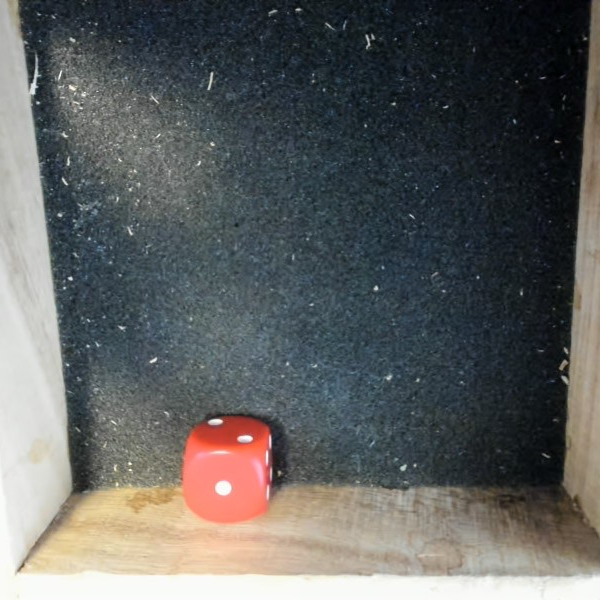red_die_pip1: (180, 415, 277, 523)
